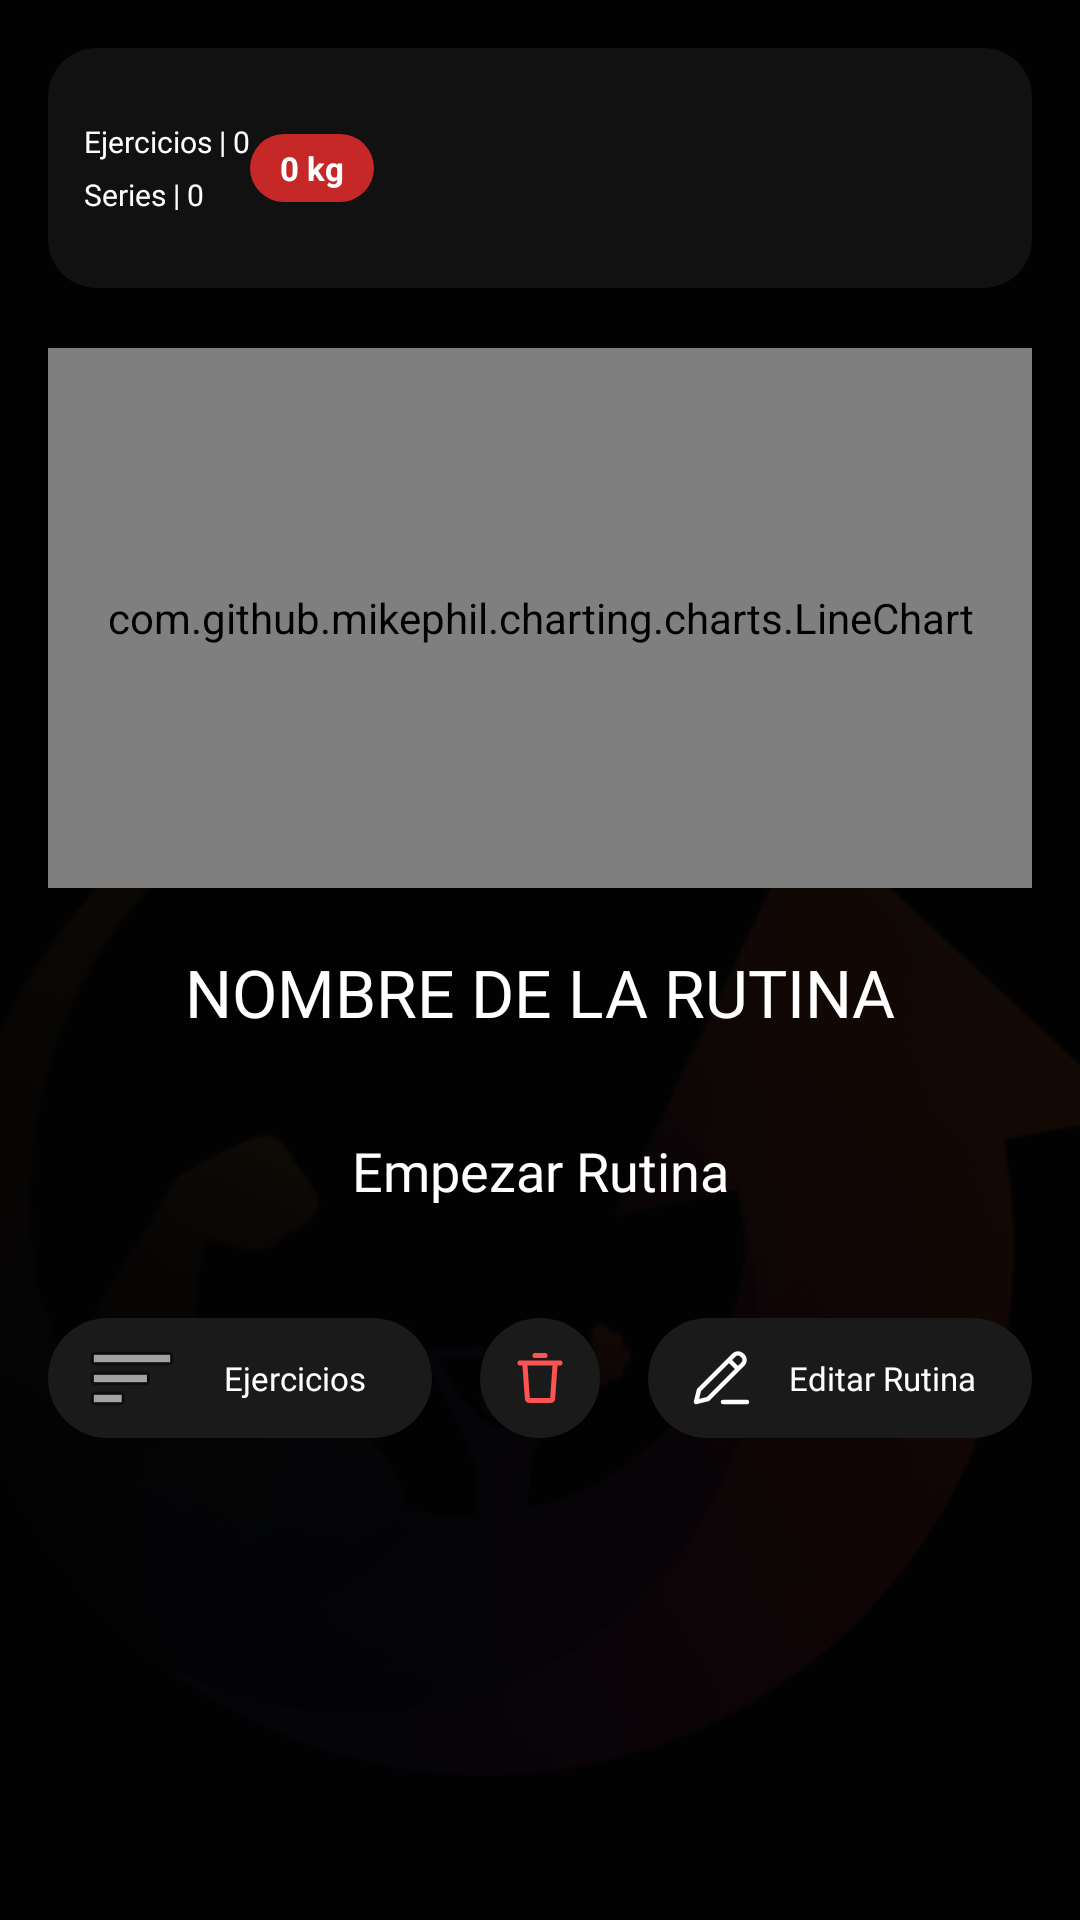

Named icons in this screenshot (1080px×1920px) and their centers, [x,y]:
Eliminar rutina: [540,1378]
